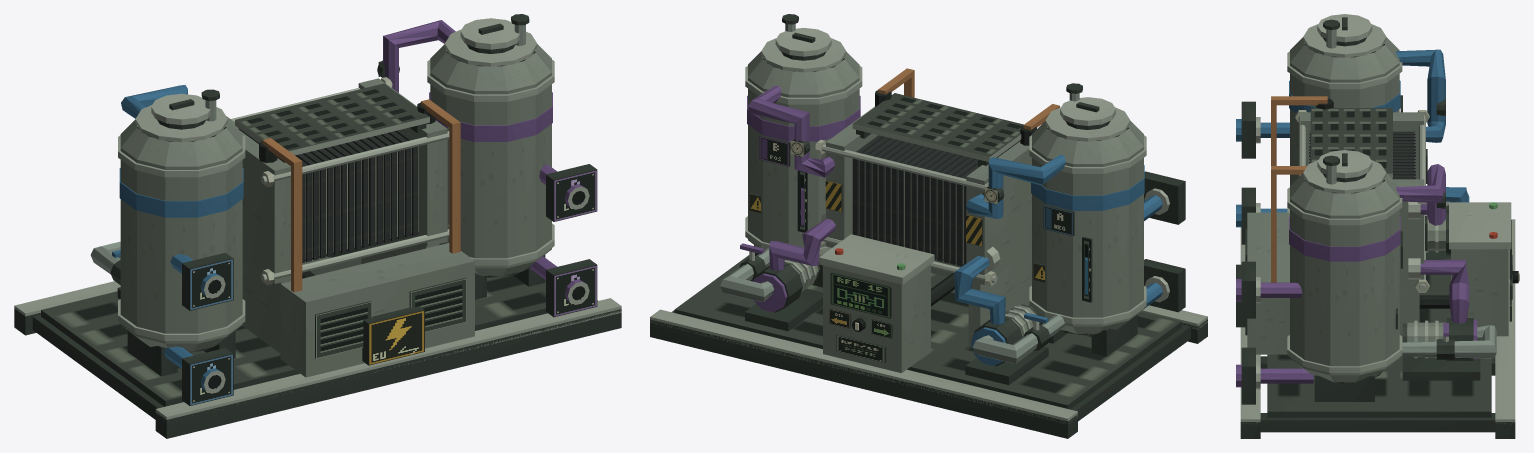
Rendered from flow_battery.obj.
3 renders of one model, left to right at view 1: azimuth 30°, elevation 25°; view 2: azimuth 150°, elevation 25°; view 3: azimuth 270°, elevation 25°, orthographic. The views are drawn at different scales.
Parts seen in each view (by area): view 1: tank_a_shell, skid, tank_b_shell, converter, stack_plates, deck, stack_endplates, stack_guard, tank_a_bands, tank_b_bands, busbars, tank_caps (+12 smaller); view 2: skid, deck, tank_a_front, stack_plates, control_console, tank_b_front, stack_endplates, stack_guard, control_face, pump_b, supply_a, tank_labels (+20 smaller); view 3: tank_b_shell, deck, skid, tank_b_front, control_console, converter, stack_guard, tank_b_bands, tank_a_shell, supply_b, pump_b, stack_endplates (+22 smaller).
Part boxes in pixels (left/top/right/bottom): tank_a_shell: left=120, top=120, right=242, bottom=351; skid: left=14, top=281, right=621, bottom=438; tank_b_shell: left=430, top=44, right=551, bottom=276; converter: left=280, top=243, right=474, bottom=377; stack_plates: left=295, top=129, right=418, bottom=263; deck: left=41, top=249, right=547, bottom=406; stack_endplates: left=226, top=78, right=447, bottom=283; stack_guard: left=235, top=83, right=429, bottom=162; tank_a_bands: left=118, top=105, right=245, bottom=352; tank_b_bands: left=427, top=29, right=554, bottom=277; busbars: left=259, top=99, right=460, bottom=292; tank_caps: left=151, top=14, right=529, bottom=129; skid: left=650, top=305, right=1207, bottom=438; deck: left=674, top=255, right=1181, bottom=409; tank_a_front: left=1032, top=121, right=1128, bottom=333; stack_plates: left=852, top=135, right=978, bottom=266; control_console: left=819, top=234, right=934, bottom=372; tank_b_front: left=748, top=51, right=844, bottom=258; stack_endplates: left=825, top=106, right=1031, bottom=284; stack_guard: left=852, top=93, right=1023, bottom=166; control_face: left=829, top=248, right=905, bottom=362; pump_b: left=745, top=259, right=822, bottom=331; supply_a: left=954, top=246, right=1065, bottom=363; tank_labels: left=749, top=135, right=1092, bottom=302; tank_b_shell: left=1290, top=173, right=1359, bottom=382; deck: left=1267, top=275, right=1491, bottom=417; skid: left=1240, top=219, right=1515, bottom=438; tank_b_front: left=1355, top=173, right=1399, bottom=381; control_console: left=1449, top=202, right=1511, bottom=336; converter: left=1245, top=212, right=1289, bottom=354; stack_guard: left=1310, top=108, right=1392, bottom=178; tank_b_bands: left=1287, top=160, right=1386, bottom=383; tank_a_shell: left=1290, top=37, right=1359, bottom=185; supply_b: left=1400, top=258, right=1496, bottom=358; pump_b: left=1402, top=318, right=1480, bottom=380; stack_endplates: left=1300, top=112, right=1427, bottom=290.
Bounding box in the file's own units: 5 × 3 × 3.
1 material, 1 textured.
